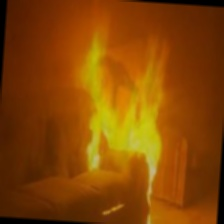fire: (85, 18, 175, 154)
